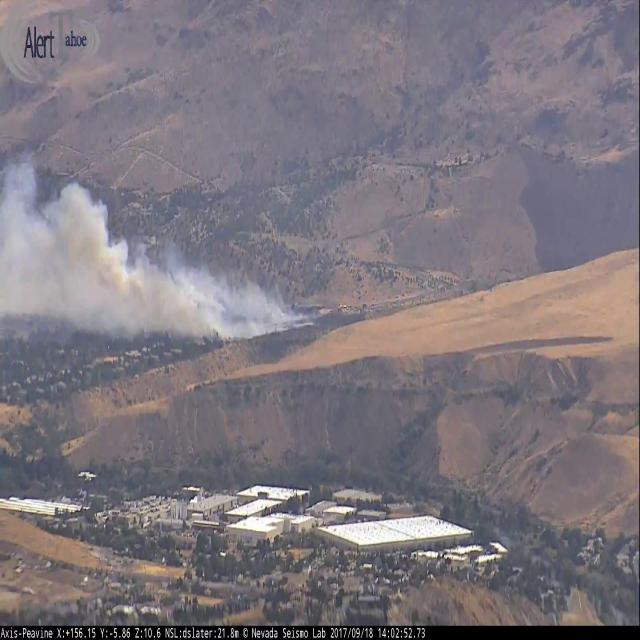smoke: (0, 151, 314, 342)
